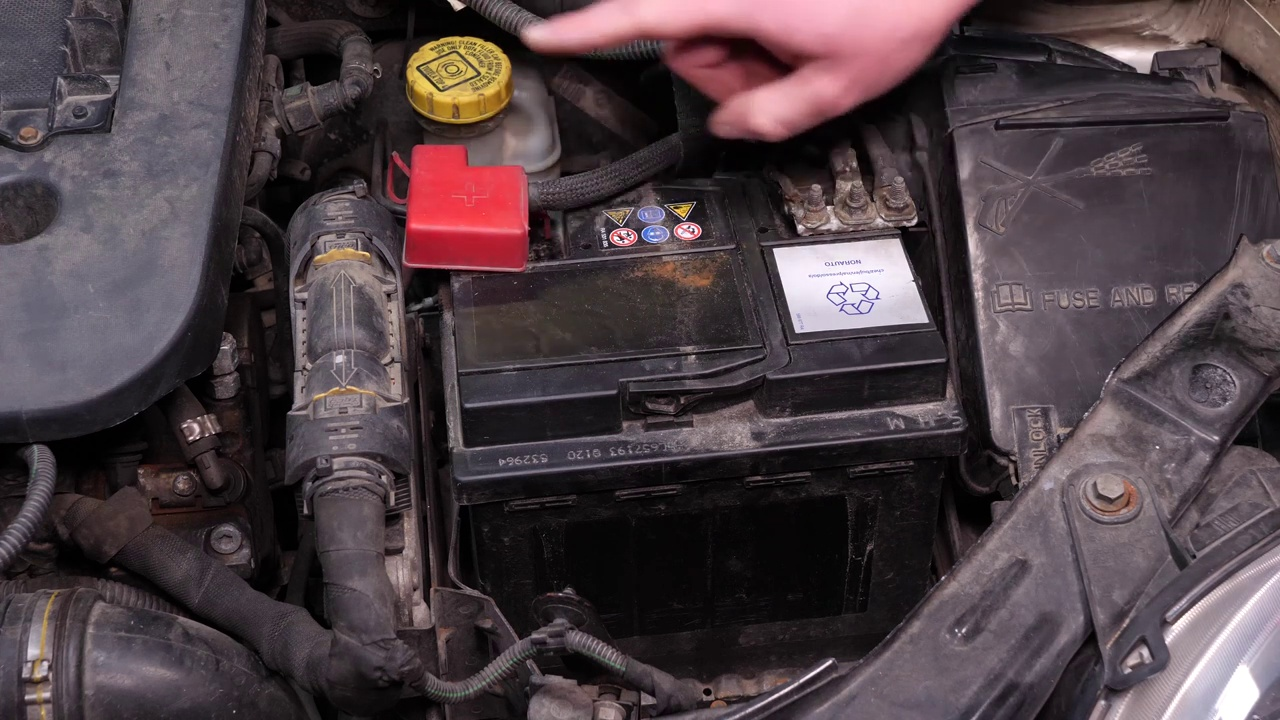battery: (402, 147, 950, 423)
neg_connected: (771, 155, 937, 245)
pos_connected: (412, 149, 545, 290)
